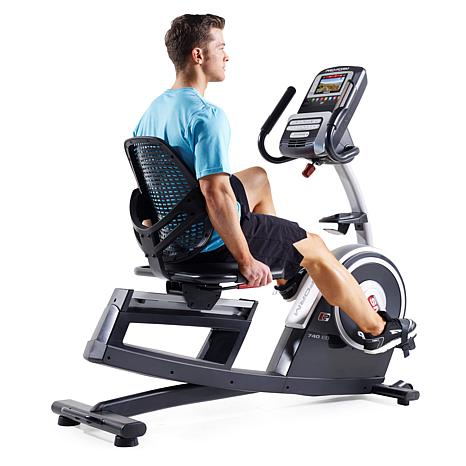gym_bike: (47, 64, 423, 448)
